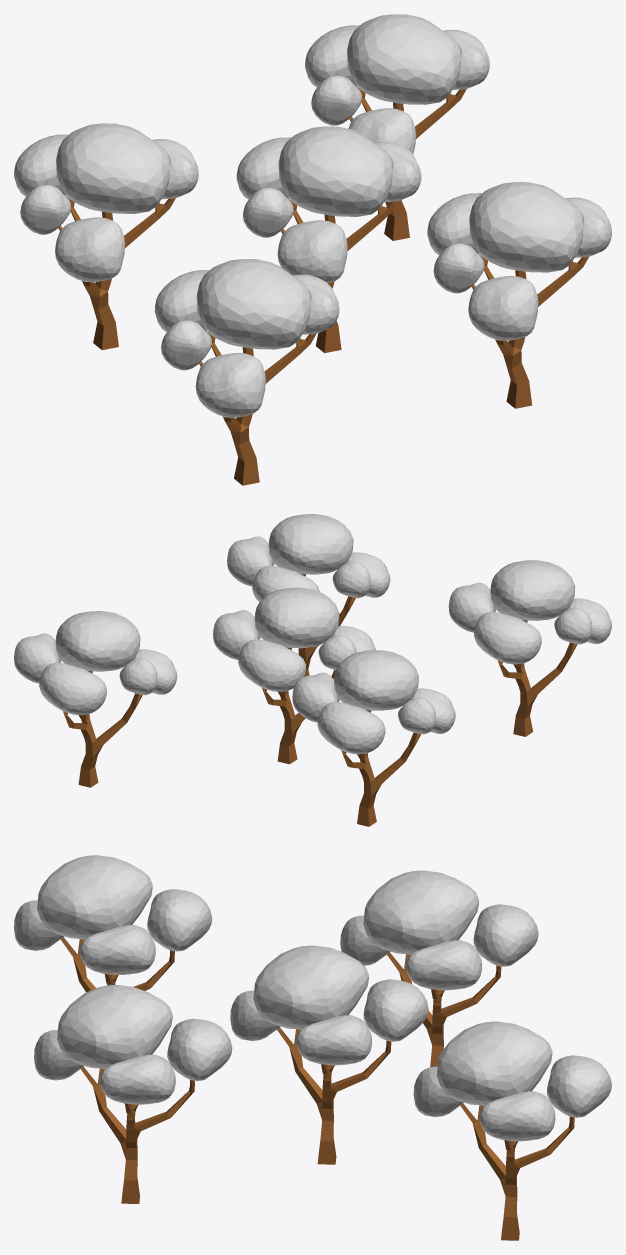
The model's file is tree.glb.
3 views of the same model, one above another, from view 1: azimuth 30°, elevation 25°; view 2: azimuth 150°, elevation 25°; view 3: azimuth 270°, elevation 25° (orthographic). The views are drawn at different scales.
Visible parts, largest first — view 1: Plane.003, Plane.005, Plane.004, Plane.001, Plane.002; view 2: Plane.004, Plane.002, Plane.003, Plane.001, Plane.005; view 3: Plane.002, Plane.001, Plane.005, Plane.003, Plane.004.
Boxes of the visible parts, bbox=[...] form: Plane.003: bbox=[14, 123, 198, 350]; Plane.005: bbox=[427, 182, 611, 408]; Plane.004: bbox=[154, 259, 339, 485]; Plane.001: bbox=[236, 126, 421, 353]; Plane.002: bbox=[305, 14, 489, 240]; Plane.004: bbox=[448, 560, 611, 736]; Plane.002: bbox=[14, 611, 177, 787]; Plane.003: bbox=[292, 650, 455, 826]; Plane.001: bbox=[213, 587, 375, 764]; Plane.005: bbox=[227, 514, 390, 676]; Plane.002: bbox=[413, 1021, 611, 1240]; Plane.001: bbox=[230, 945, 428, 1164]; Plane.005: bbox=[34, 985, 232, 1203]; Plane.003: bbox=[340, 870, 538, 1067]; Plane.004: bbox=[14, 855, 212, 992].
Bounding box in the file's own units: 2.32 × 0.8997 × 2.38.
